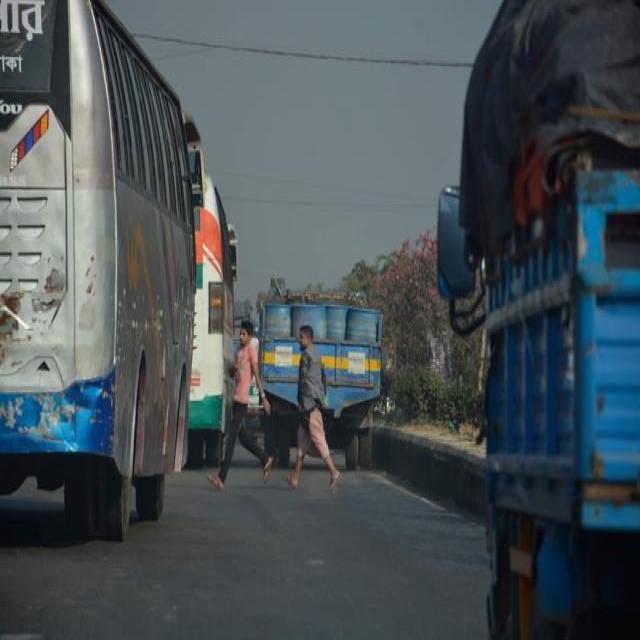bus: (0, 0, 195, 527), (181, 174, 235, 463)
pickup: (480, 2, 638, 636), (261, 288, 379, 467)
